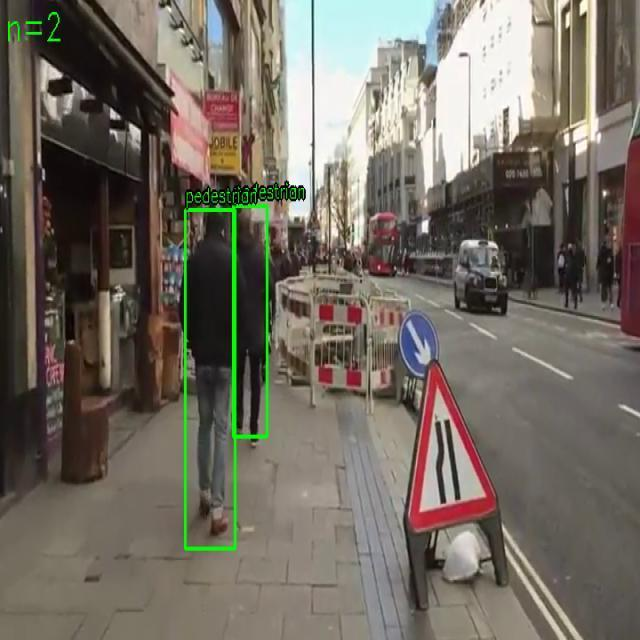person: (184, 210, 236, 550), (232, 205, 268, 438)
